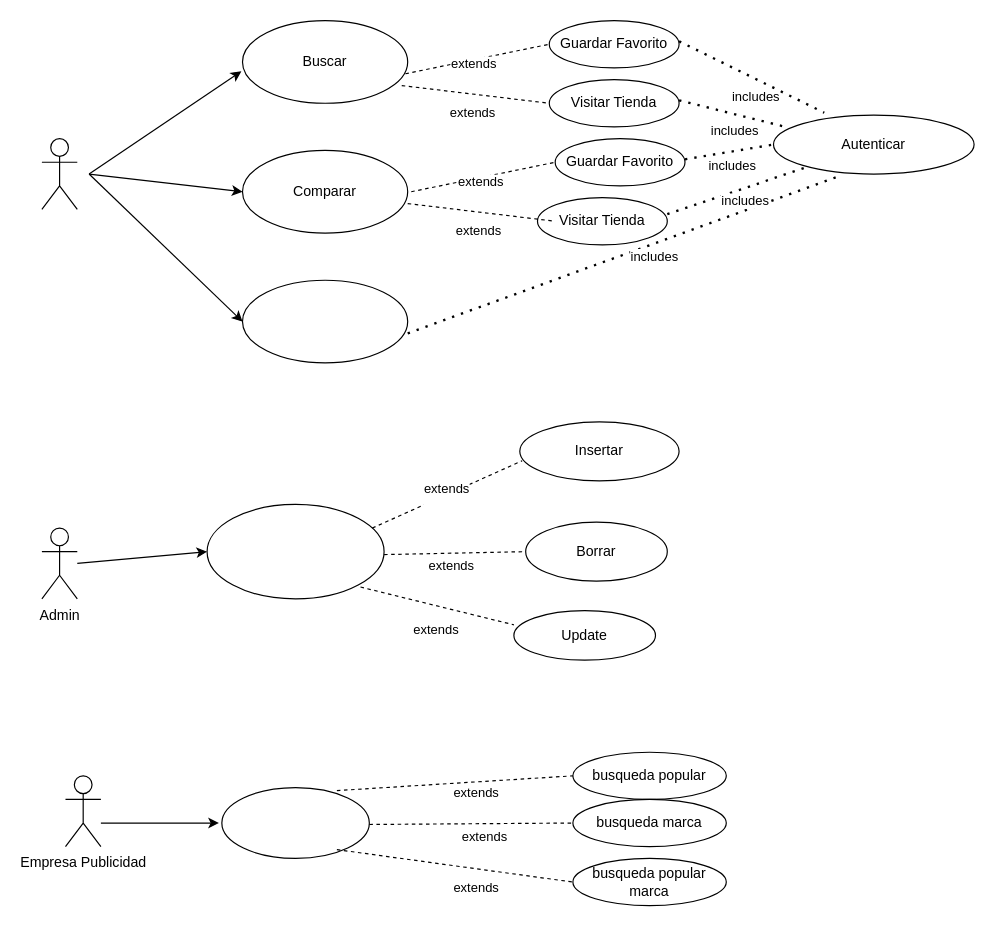
This 995x932 diagram has some shape labels left out. The shapes that lost their labels are listed below. From the top down, each one's box as (x1, y1, x2, y2) in pixels, then its label:
(41, 137, 77, 209): Usuario
(241, 279, 408, 363): Revisar Historial
(206, 503, 384, 599): Gestionar Guitarras
(221, 786, 369, 858): Consultar estadísticas
